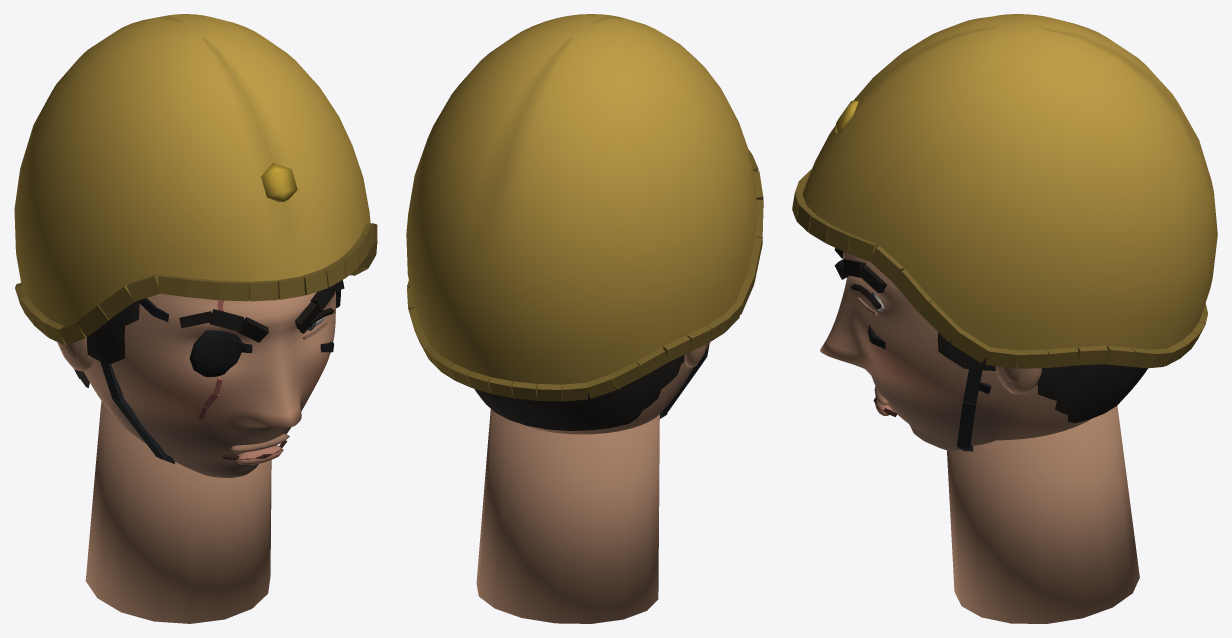
Rendered from cabeza-capitan-m.glb.
3 renders of one model, left to right at view 1: azimuth 30°, elevation 25°; view 2: azimuth 150°, elevation 25°; view 3: azimuth 270°, elevation 25°, orthographic.
Parts seen in each view (by area): view 1: h_Head; view 2: h_Head; view 3: h_Head.
Part boxes in pixels (x1,y1,x2,y2): h_Head: (14,14,377,623); h_Head: (406,14,763,623); h_Head: (792,14,1217,623).
Size of the model in its own units: 0.2079 by 0.377 by 0.2571.
